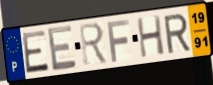E: (45, 24, 78, 74), (20, 28, 51, 75)
F: (105, 18, 131, 64)
H: (135, 14, 166, 60)
R: (78, 21, 110, 67), (162, 12, 192, 56)
